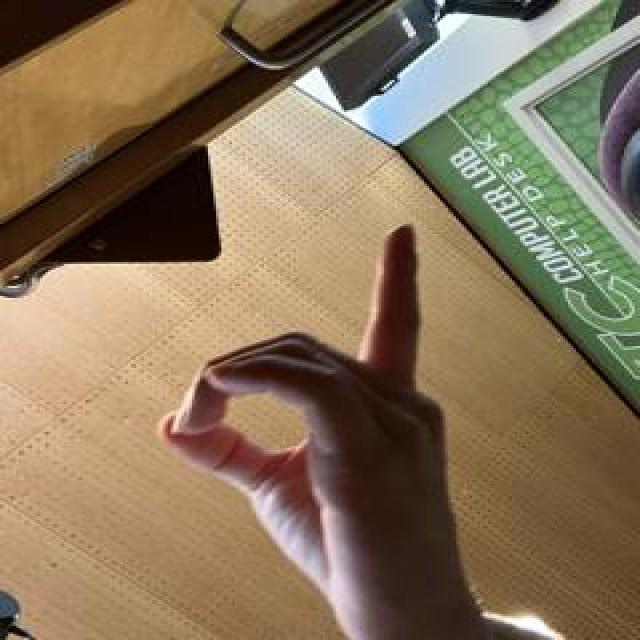D: (149, 219, 480, 619)
